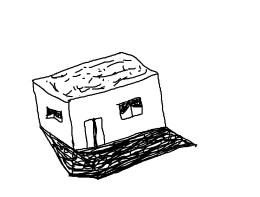closed_window: (108, 97, 147, 120), (42, 105, 66, 125)
door: (78, 117, 110, 148)
roof: (24, 48, 166, 108)
shadow: (31, 125, 199, 180)
wall: (61, 72, 172, 148)
